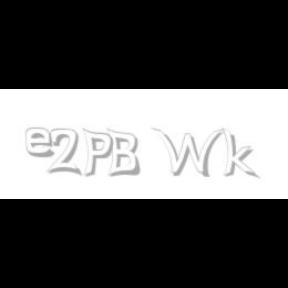2: (46, 128, 80, 176)
B: (106, 128, 140, 178)
P: (81, 128, 113, 178)
W: (151, 128, 223, 178)
e: (26, 128, 58, 158)
k: (221, 128, 259, 180)
